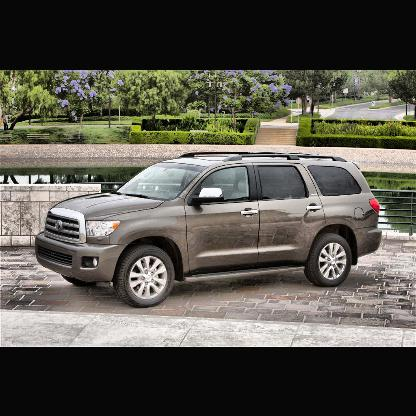Toyota Sequoia SUV 2012: (34, 150, 383, 306)
